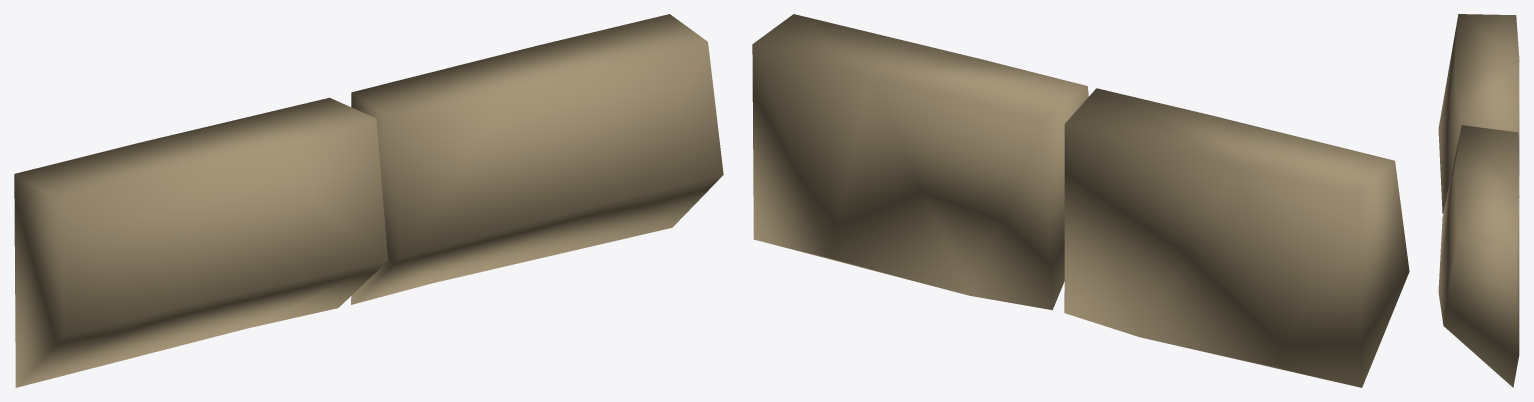
File: Sofa.003.fbx
3 views of the same model, side by side, from view 1: azimuth 30°, elevation 25°; view 2: azimuth 150°, elevation 25°; view 3: azimuth 270°, elevation 25° (orthographic). The views are drawn at different scales.
Visible parts, largest first — view 1: Sofa.003; view 2: Sofa.003; view 3: Sofa.003.
Part boxes in pixels (x1,y1,x2,y2): Sofa.003: [14, 14, 723, 387]; Sofa.003: [752, 14, 1409, 387]; Sofa.003: [1438, 14, 1519, 387].
Bounding box in the file's own units: 164 × 51.73 × 24.88.
